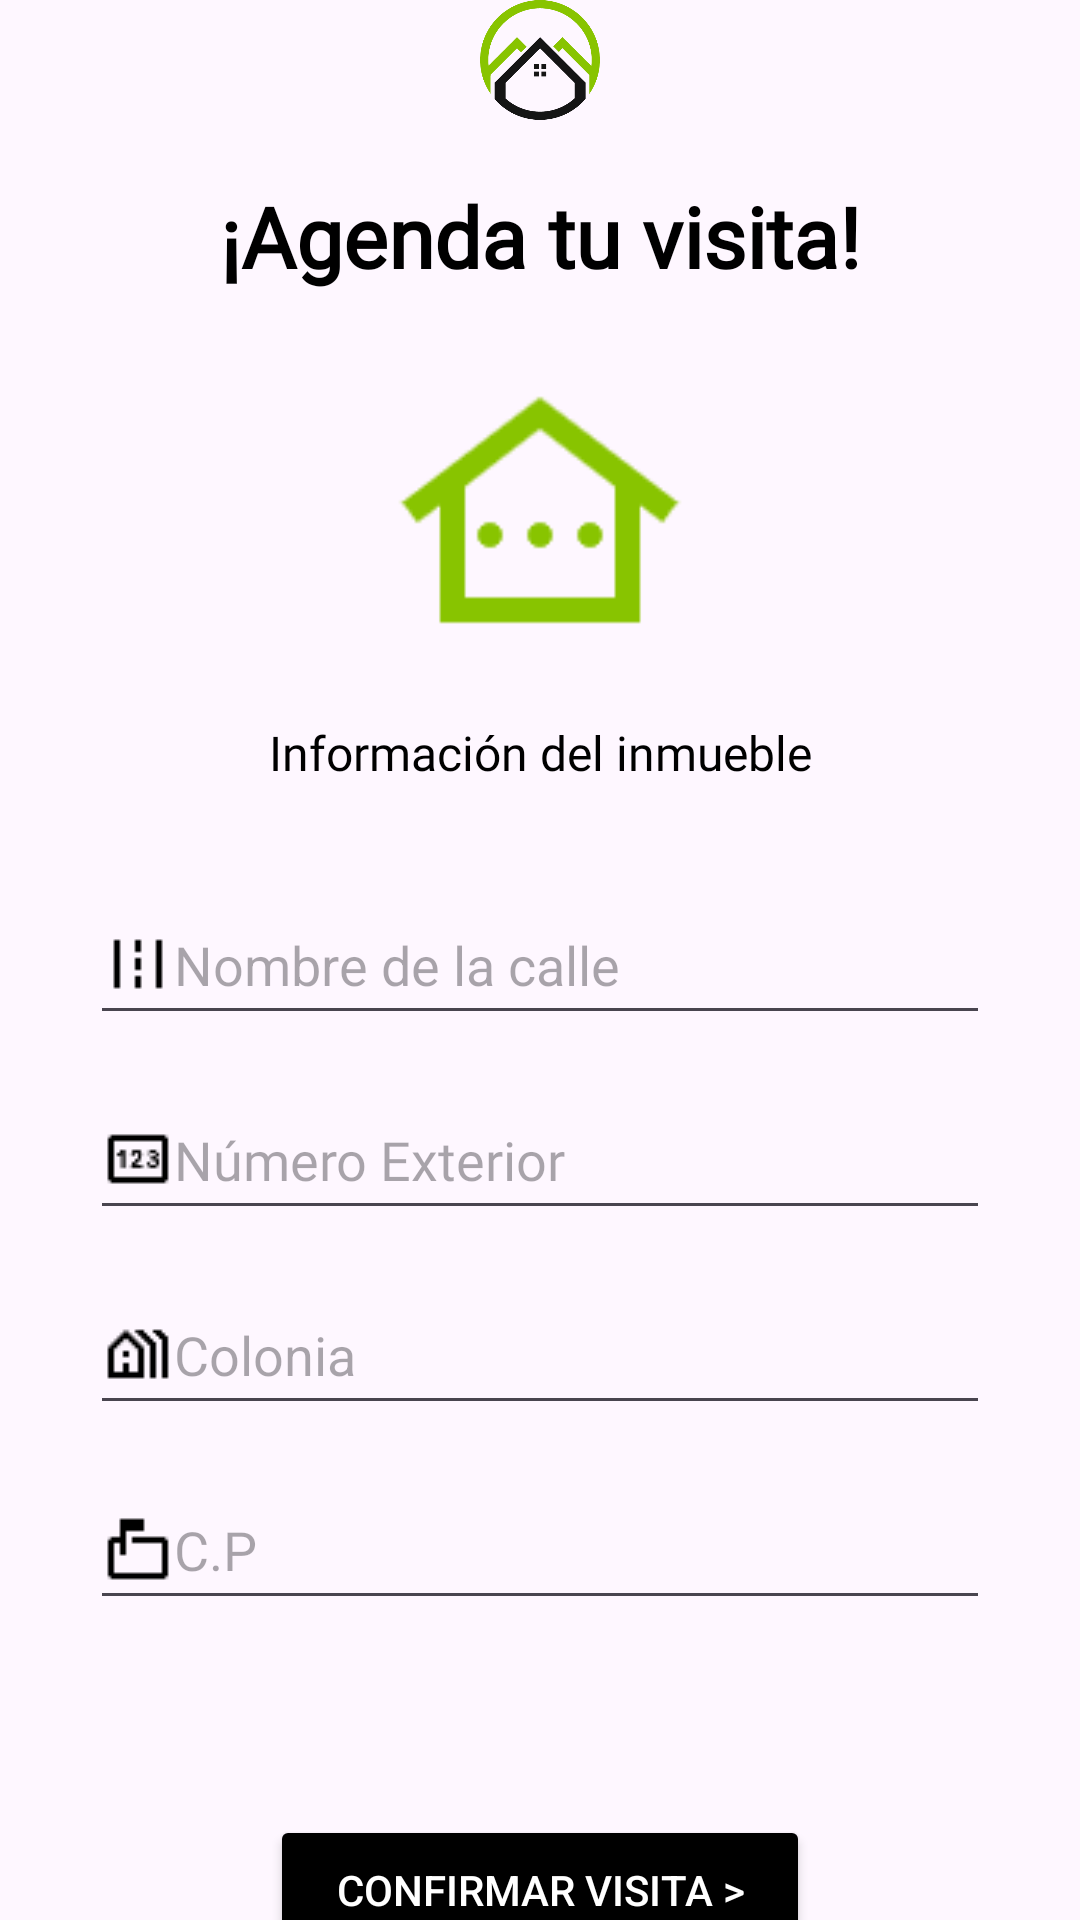

Icon click points for this 1080 × 1920 phone screenshot, format point (x, y):
homeiconp: point (540, 510)
